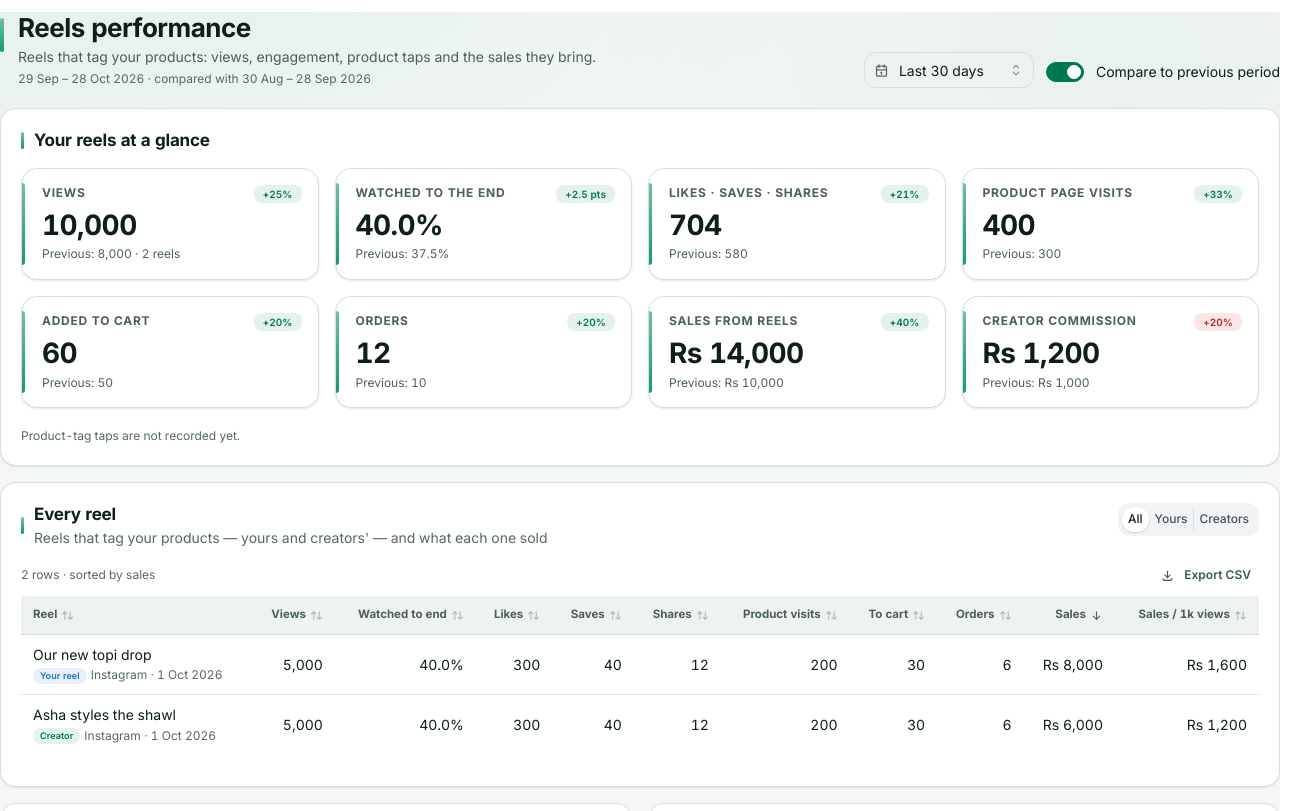
it: Reels performance › shows every reel with views, engagement and sales, and filters to creators
This screenshot has width=1292, height=811.
Expected: the text "10,000" is shown, 42,208 -> 137,242
Expected: the text "+2.5 pts" is shown, 565,186 -> 606,202
Click the radio button labelled "Creators".
click(1224, 519)  # box 1200,511 -> 1249,526
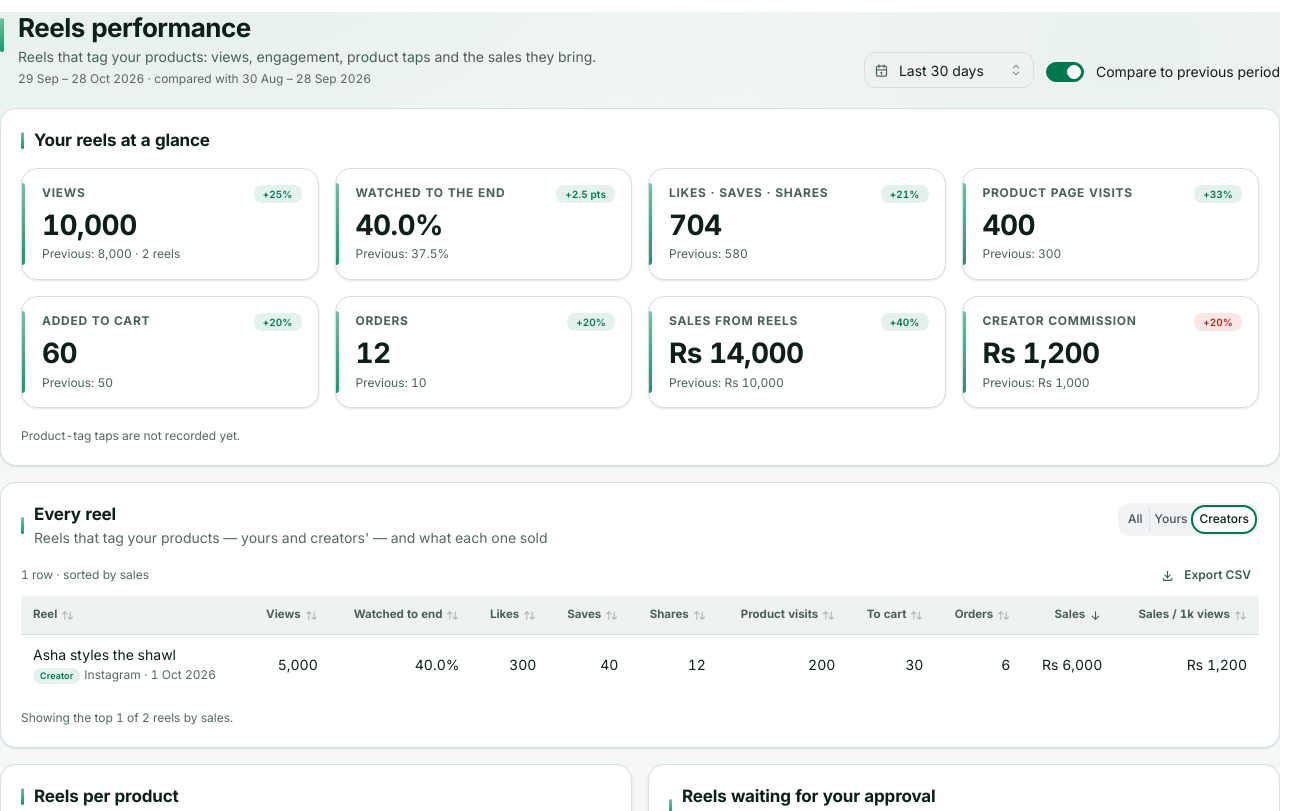
Result: the text "Our new topi drop" is gone
